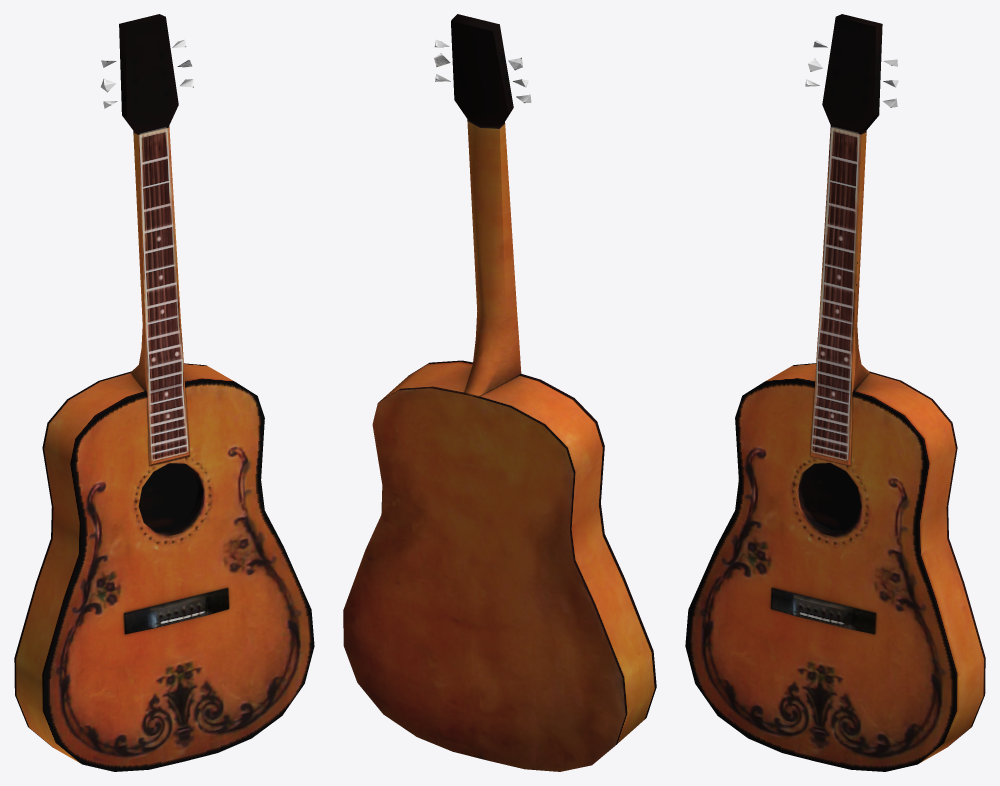
The model's file is M_Home_Garden_Guitar.fbx.
3 renders of one model, left to right at view 1: azimuth 30°, elevation 25°; view 2: azimuth 150°, elevation 25°; view 3: azimuth 330°, elevation 25°, orthographic. The views are drawn at different scales.
Parts seen in each view (by area): view 1: M_Home_Garden_Guitar; view 2: M_Home_Garden_Guitar; view 3: M_Home_Garden_Guitar.
Boxes of the visible parts, <box> form: M_Home_Garden_Guitar: <box>14,14,314,771</box>; M_Home_Garden_Guitar: <box>343,14,656,771</box>; M_Home_Garden_Guitar: <box>685,14,985,771</box>.
Size of the model in its own units: 49.51 by 126 by 14.98.
